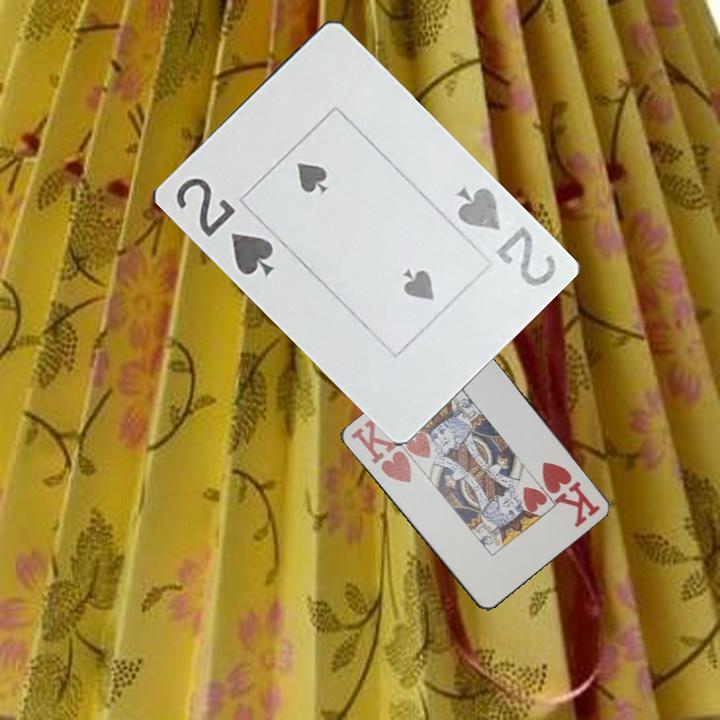2s: (452, 183, 559, 291), (172, 174, 276, 280)
Kh: (346, 413, 414, 486), (538, 458, 603, 528)
